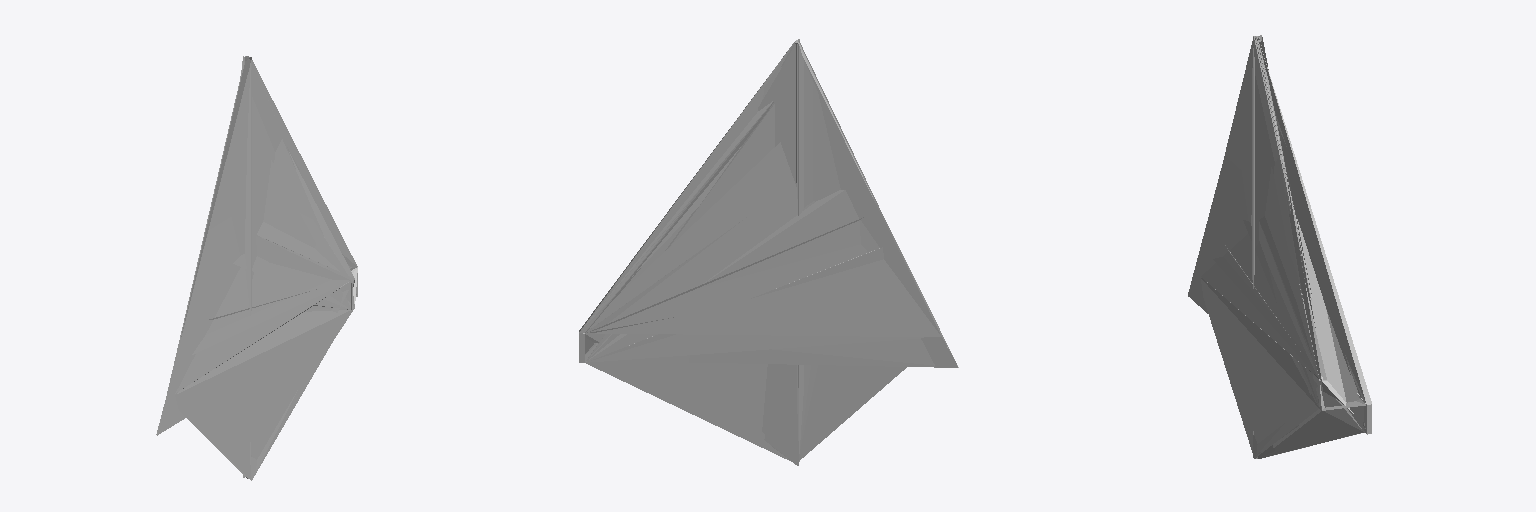
Rendered from boat.obj.
The picture shows the model from 3 angles: view 1: azimuth 30°, elevation 25°; view 2: azimuth 150°, elevation 25°; view 3: azimuth 270°, elevation 25°; orthographic projection.
Parts seen in each view (by area): view 1: Box20180, Box20184, Cylinder002, Box20179; view 2: Box20184, Box20180, Box20179, Cylinder002; view 3: Box20180, Box20184, Box20179, Cylinder002.
Part boxes in pixels (bbox=[...]): Box20180: bbox=[156, 56, 357, 480]; Box20184: bbox=[175, 236, 357, 393]; Cylinder002: bbox=[158, 147, 353, 426]; Box20179: bbox=[157, 213, 357, 430]; Box20184: bbox=[579, 142, 940, 362]; Box20180: bbox=[579, 39, 958, 465]; Box20179: bbox=[585, 217, 947, 367]; Cylinder002: bbox=[584, 101, 956, 363]; Box20180: bbox=[1188, 35, 1371, 458]; Box20184: bbox=[1201, 222, 1365, 432]; Box20179: bbox=[1225, 115, 1365, 409]; Cylinder002: bbox=[1263, 113, 1365, 431].
Bounding box in the file's own units: 441 × 612 × 243.